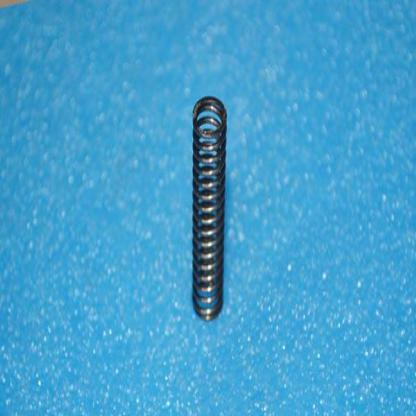FOD: (188, 94, 231, 326)
